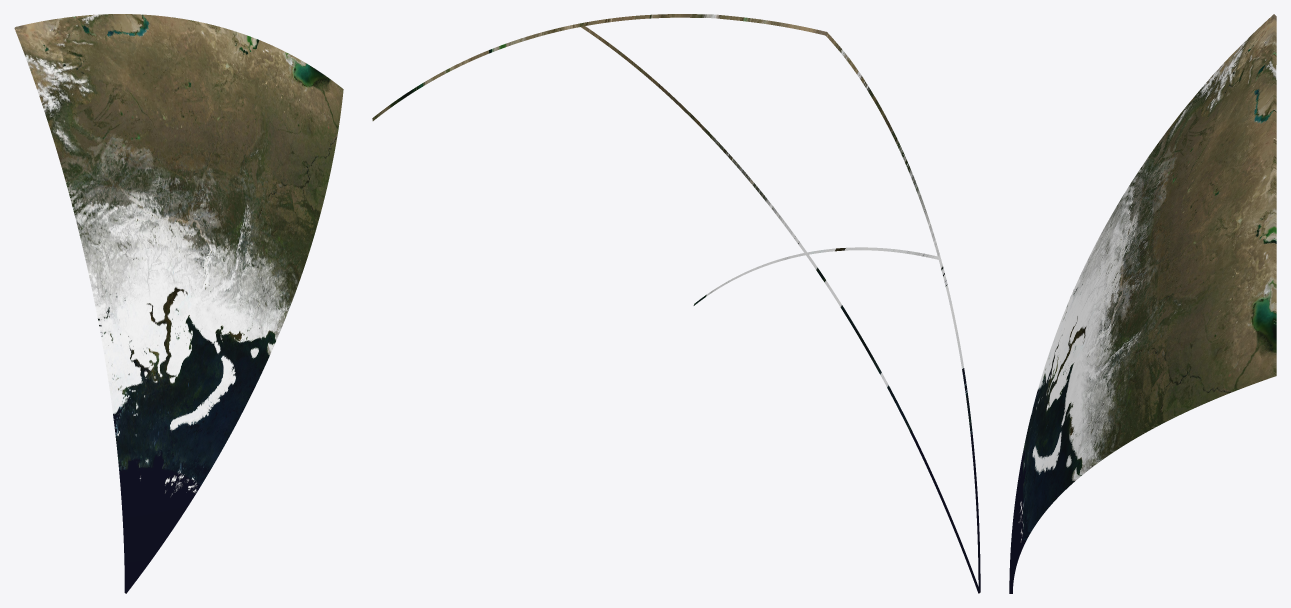
3 renders of one model, left to right at view 1: azimuth 30°, elevation 25°; view 2: azimuth 150°, elevation 25°; view 3: azimuth 270°, elevation 25°, orthographic. The views are drawn at different scales.
Visible parts, largest first — view 1: DefaultName.006, DefaultName.003, DefaultName.009, DefaultName.012; view 2: DefaultName.003, DefaultName.006, DefaultName.012, DefaultName.009; view 3: DefaultName.003, DefaultName.006, DefaultName.012, DefaultName.009.
Boxes of the visible parts, x1,y1,x2,y2 form: DefaultName.006: (14, 14, 201, 309); DefaultName.003: (193, 20, 343, 342); DefaultName.009: (96, 302, 193, 593); DefaultName.012: (126, 306, 274, 593); DefaultName.003: (372, 23, 806, 254); DefaultName.006: (580, 14, 940, 259); DefaultName.012: (693, 253, 978, 593); DefaultName.009: (806, 247, 980, 593); DefaultName.003: (1078, 162, 1276, 475); DefaultName.006: (1078, 14, 1276, 358); DefaultName.012: (1009, 360, 1080, 593); DefaultName.009: (1009, 280, 1078, 583).
Size of the model in its own units: 31944 by 45183 by 18870.
Materials: 4 (4 with a texture image).
